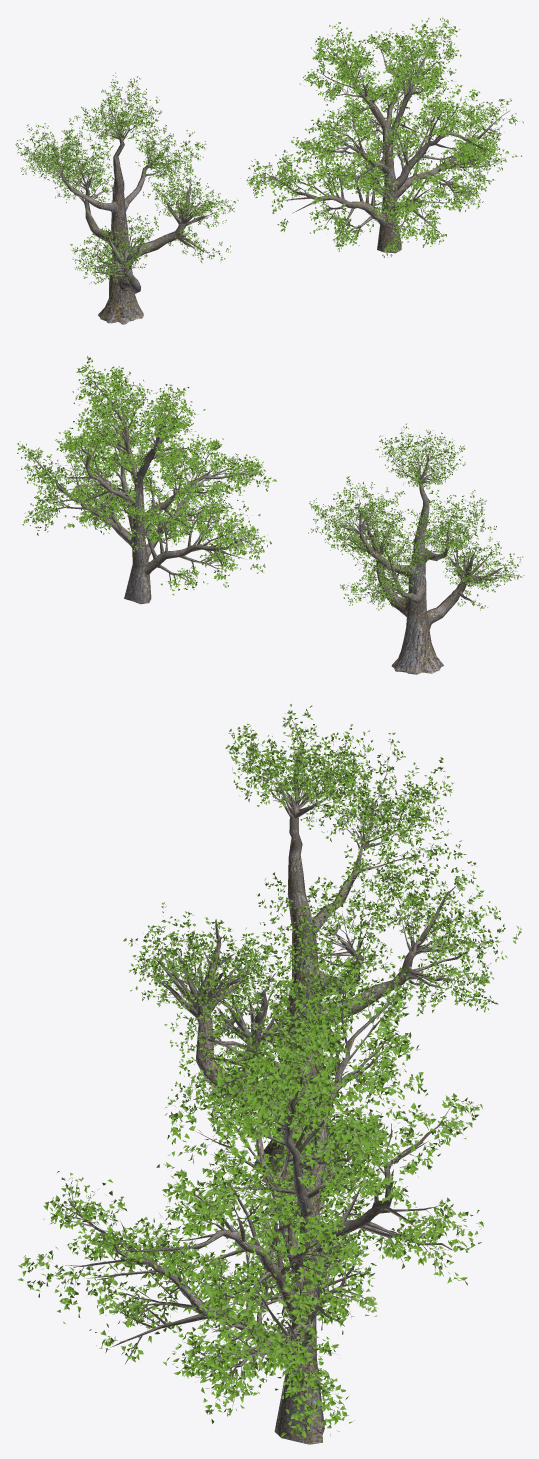
File: fab_trees.glb
3 renders of one model, top to bottom at view 1: azimuth 30°, elevation 25°; view 2: azimuth 150°, elevation 25°; view 3: azimuth 270°, elevation 25°, orthographic. The views are drawn at different scales.
Parts seen in each view (by area): view 1: Tree_0, Tree.001_1; view 2: Tree_0, Tree.001_1; view 3: Tree_0, Tree.001_1.
Boxes of the visible parts, <box> form: Tree_0: <box>240,17,523,257</box>; Tree.001_1: <box>15,72,238,324</box>; Tree_0: <box>17,356,276,604</box>; Tree.001_1: <box>308,423,524,674</box>; Tree_0: <box>17,950,483,1444</box>; Tree.001_1: <box>123,704,521,1186</box>.
Size of the model in its own units: 15.96 by 7.35 by 7.31.
Materials: 2 (2 with a texture image).
